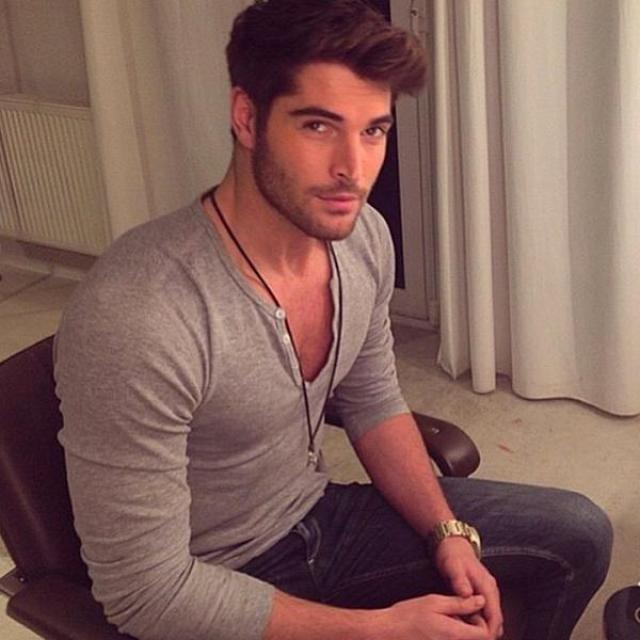human: (50, 7, 626, 640)
